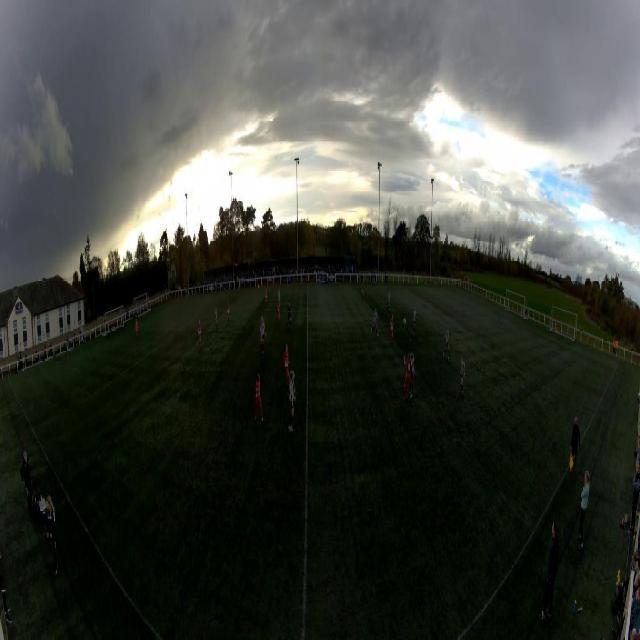ball: (403, 318, 406, 326)
player: (289, 369, 297, 434), (255, 372, 264, 424), (402, 354, 411, 404), (409, 351, 415, 399), (460, 353, 466, 395), (283, 345, 289, 383), (260, 317, 266, 352), (372, 308, 379, 336), (388, 313, 394, 345), (443, 326, 449, 358), (412, 307, 417, 337), (287, 302, 292, 329), (276, 299, 281, 325), (198, 320, 202, 351), (214, 308, 218, 330), (387, 291, 391, 312), (227, 301, 230, 325), (265, 289, 268, 308), (136, 320, 139, 338), (361, 283, 364, 301), (499, 303, 502, 320), (278, 288, 281, 303)
